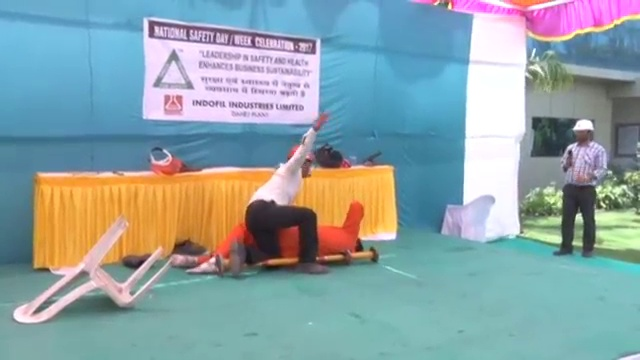helmet: (287, 142, 316, 163), (572, 117, 595, 133)
helmet_on: (286, 143, 317, 180), (571, 115, 595, 146)
person: (225, 117, 332, 280), (169, 204, 367, 274), (553, 115, 607, 259)
